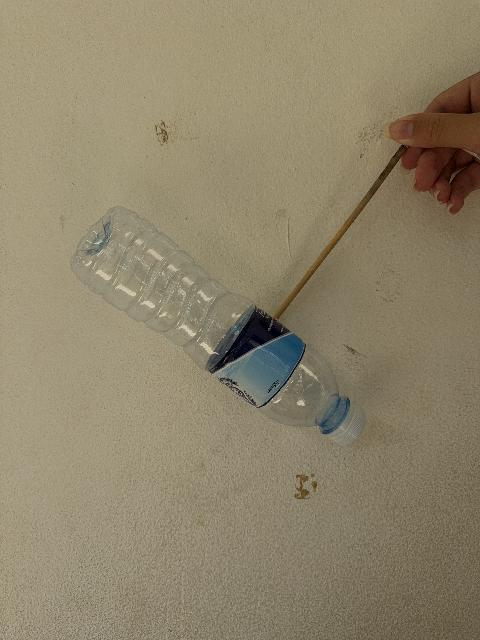bottle: (71, 207, 365, 444)
